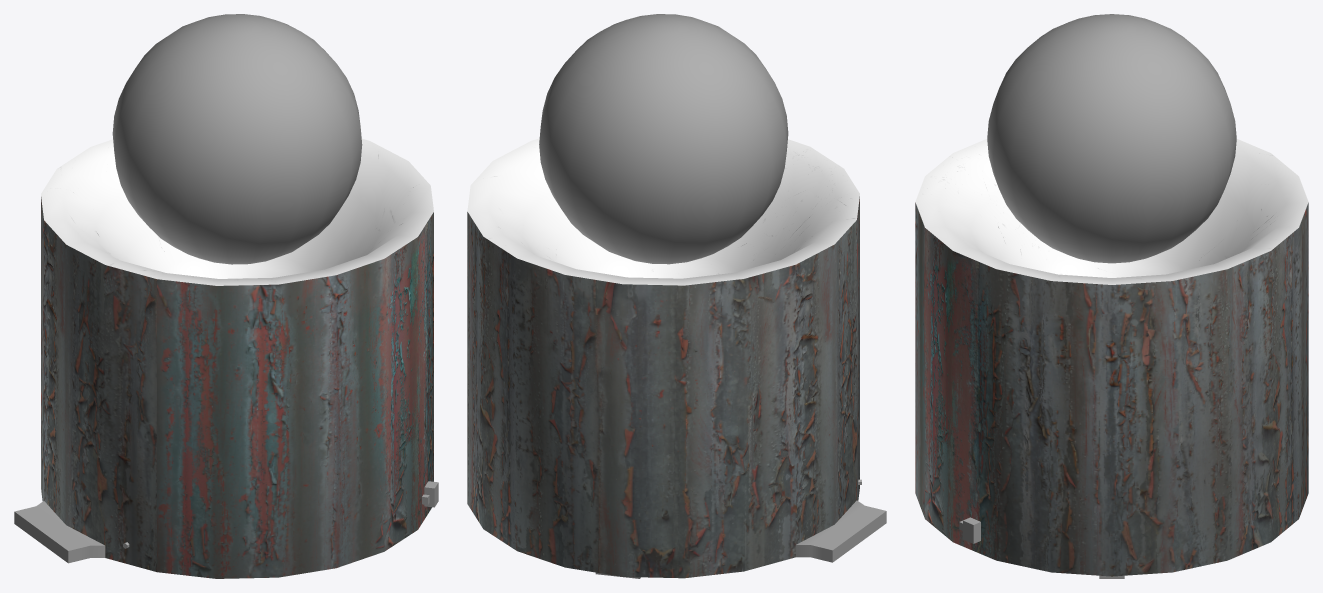
The model's file is RoomBlockout.fbx.
3 views of the same model, side by side, from view 1: azimuth 30°, elevation 25°; view 2: azimuth 150°, elevation 25°; view 3: azimuth 270°, elevation 25° (orthographic).
Parts seen in each view (by area): view 1: Room, Core, Adminpanel; view 2: Room, Core, Adminpanel; view 3: Room, Core.
Boxes of the visible parts, bbox=[...] form: Room: bbox=[41, 138, 433, 578]; Core: bbox=[112, 14, 362, 264]; Adminpanel: bbox=[14, 501, 105, 563]; Room: bbox=[467, 138, 859, 578]; Core: bbox=[539, 14, 788, 264]; Adminpanel: bbox=[796, 500, 886, 562]; Room: bbox=[915, 139, 1308, 576]; Core: bbox=[987, 14, 1236, 263].
Bounding box in the file's own units: 31.06 × 41.94 × 28.96.
